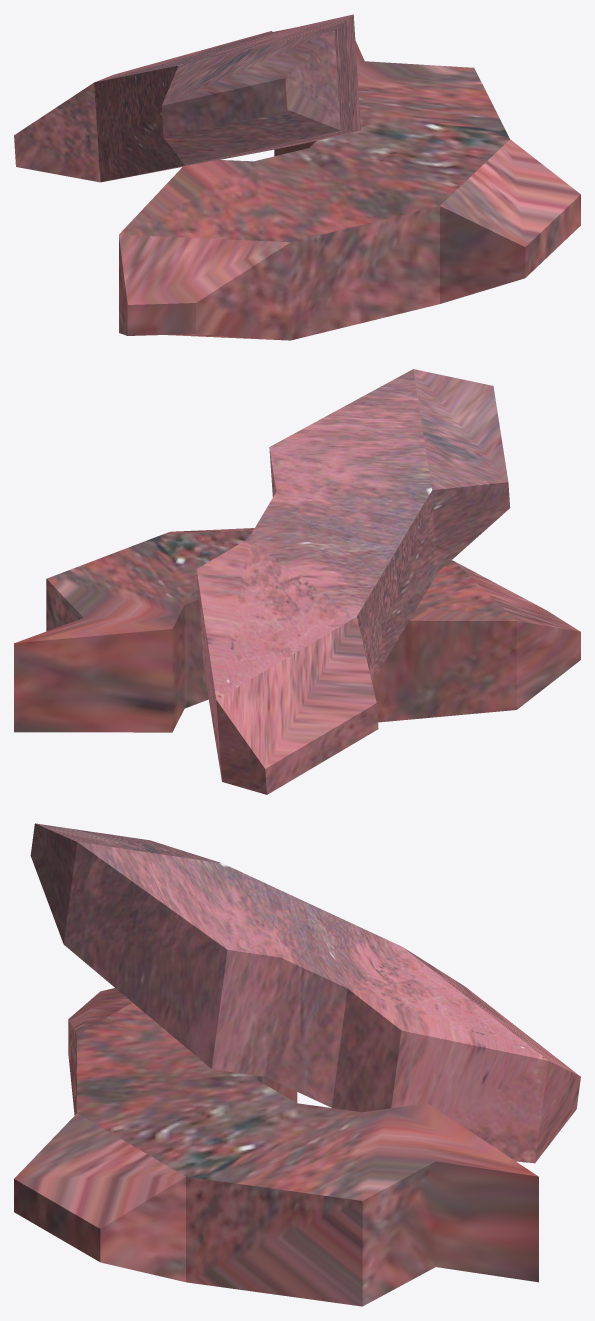
The model's file is Cog_Big_Broken_2.fbx.
The picture shows the model from 3 angles, top to bottom: view 1: azimuth 30°, elevation 25°; view 2: azimuth 150°, elevation 25°; view 3: azimuth 270°, elevation 25°; orthographic projection. The views are drawn at different scales.
Visible parts, largest first — view 1: Cog_Big_Broken; view 2: Cog_Big_Broken; view 3: Cog_Big_Broken.
Boxes of the visible parts, box(x1,y1,x2,y2) form: Cog_Big_Broken: box(14, 14, 580, 340); Cog_Big_Broken: box(14, 369, 580, 794); Cog_Big_Broken: box(14, 823, 580, 1306).
Size of the model in its own units: 180 by 113 by 176.
